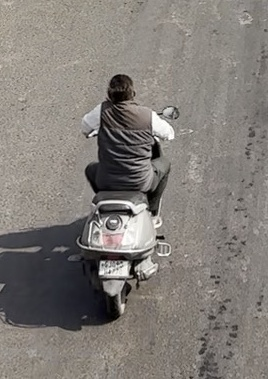BikeWithRider: (68, 68, 184, 321)
NoHelmet: (99, 69, 142, 108)
